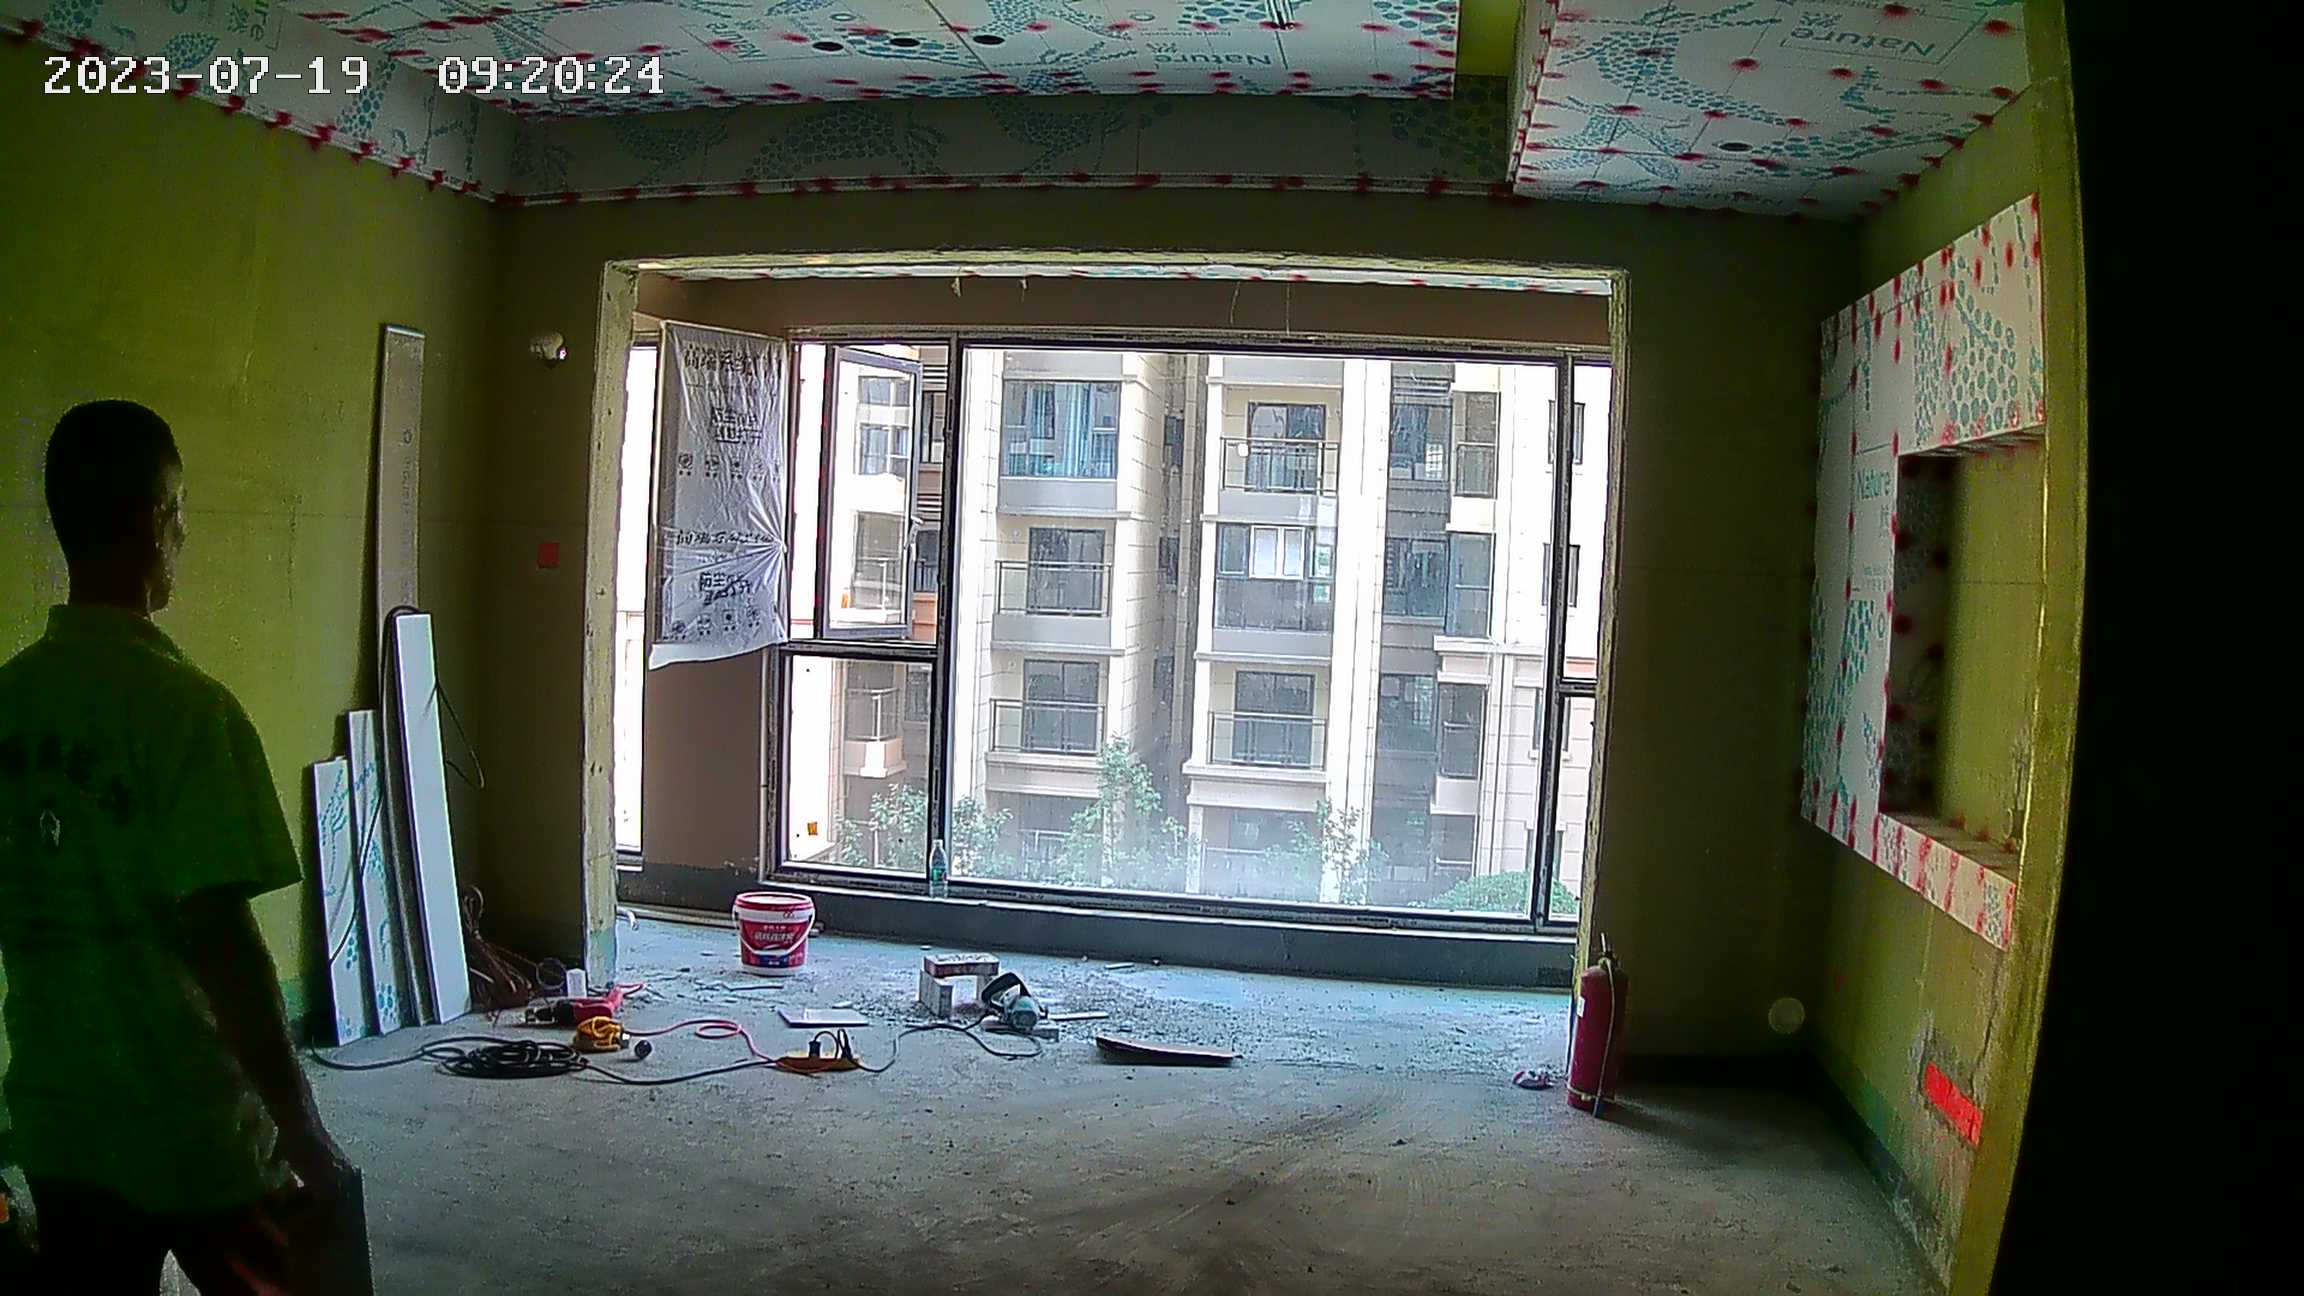people: (1, 391, 371, 1289)
window: (782, 339, 1592, 932)
